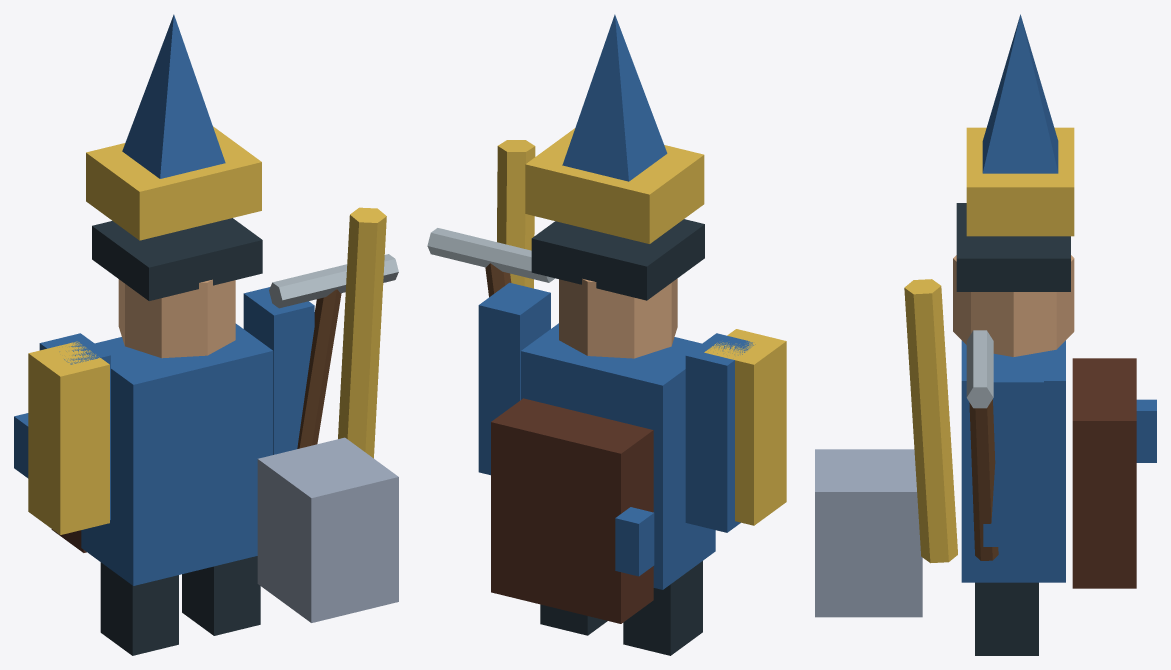
File: worker.obj
The picture shows the model from 3 angles, left to right: view 1: azimuth 30°, elevation 25°; view 2: azimuth 150°, elevation 25°; view 3: azimuth 270°, elevation 25°; orthographic projection.
Parts seen in each view (by area): view 1: worker; view 2: worker; view 3: worker.
Part boxes in pixels (x1,y1,x2,y2): worker: (14,14,398,655); worker: (427,14,786,655); worker: (815,14,1156,655).
Size of the model in its own units: 1.17 by 2 by 1.01.
